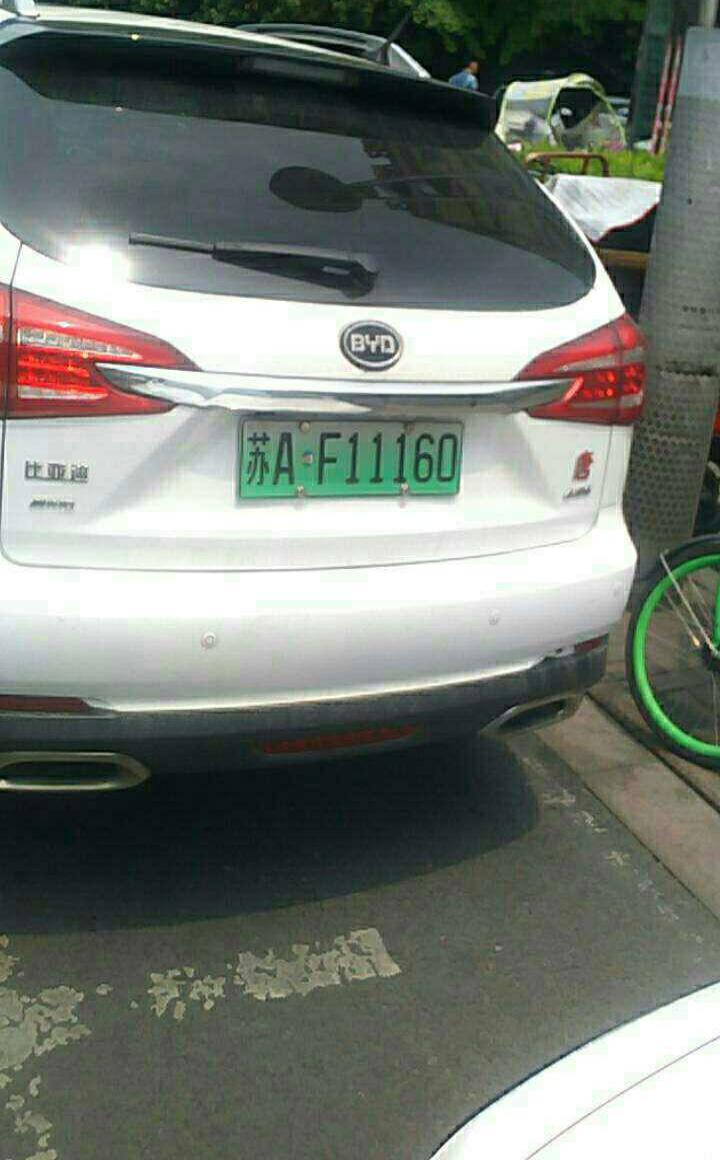car_green: (233, 415, 471, 504)
